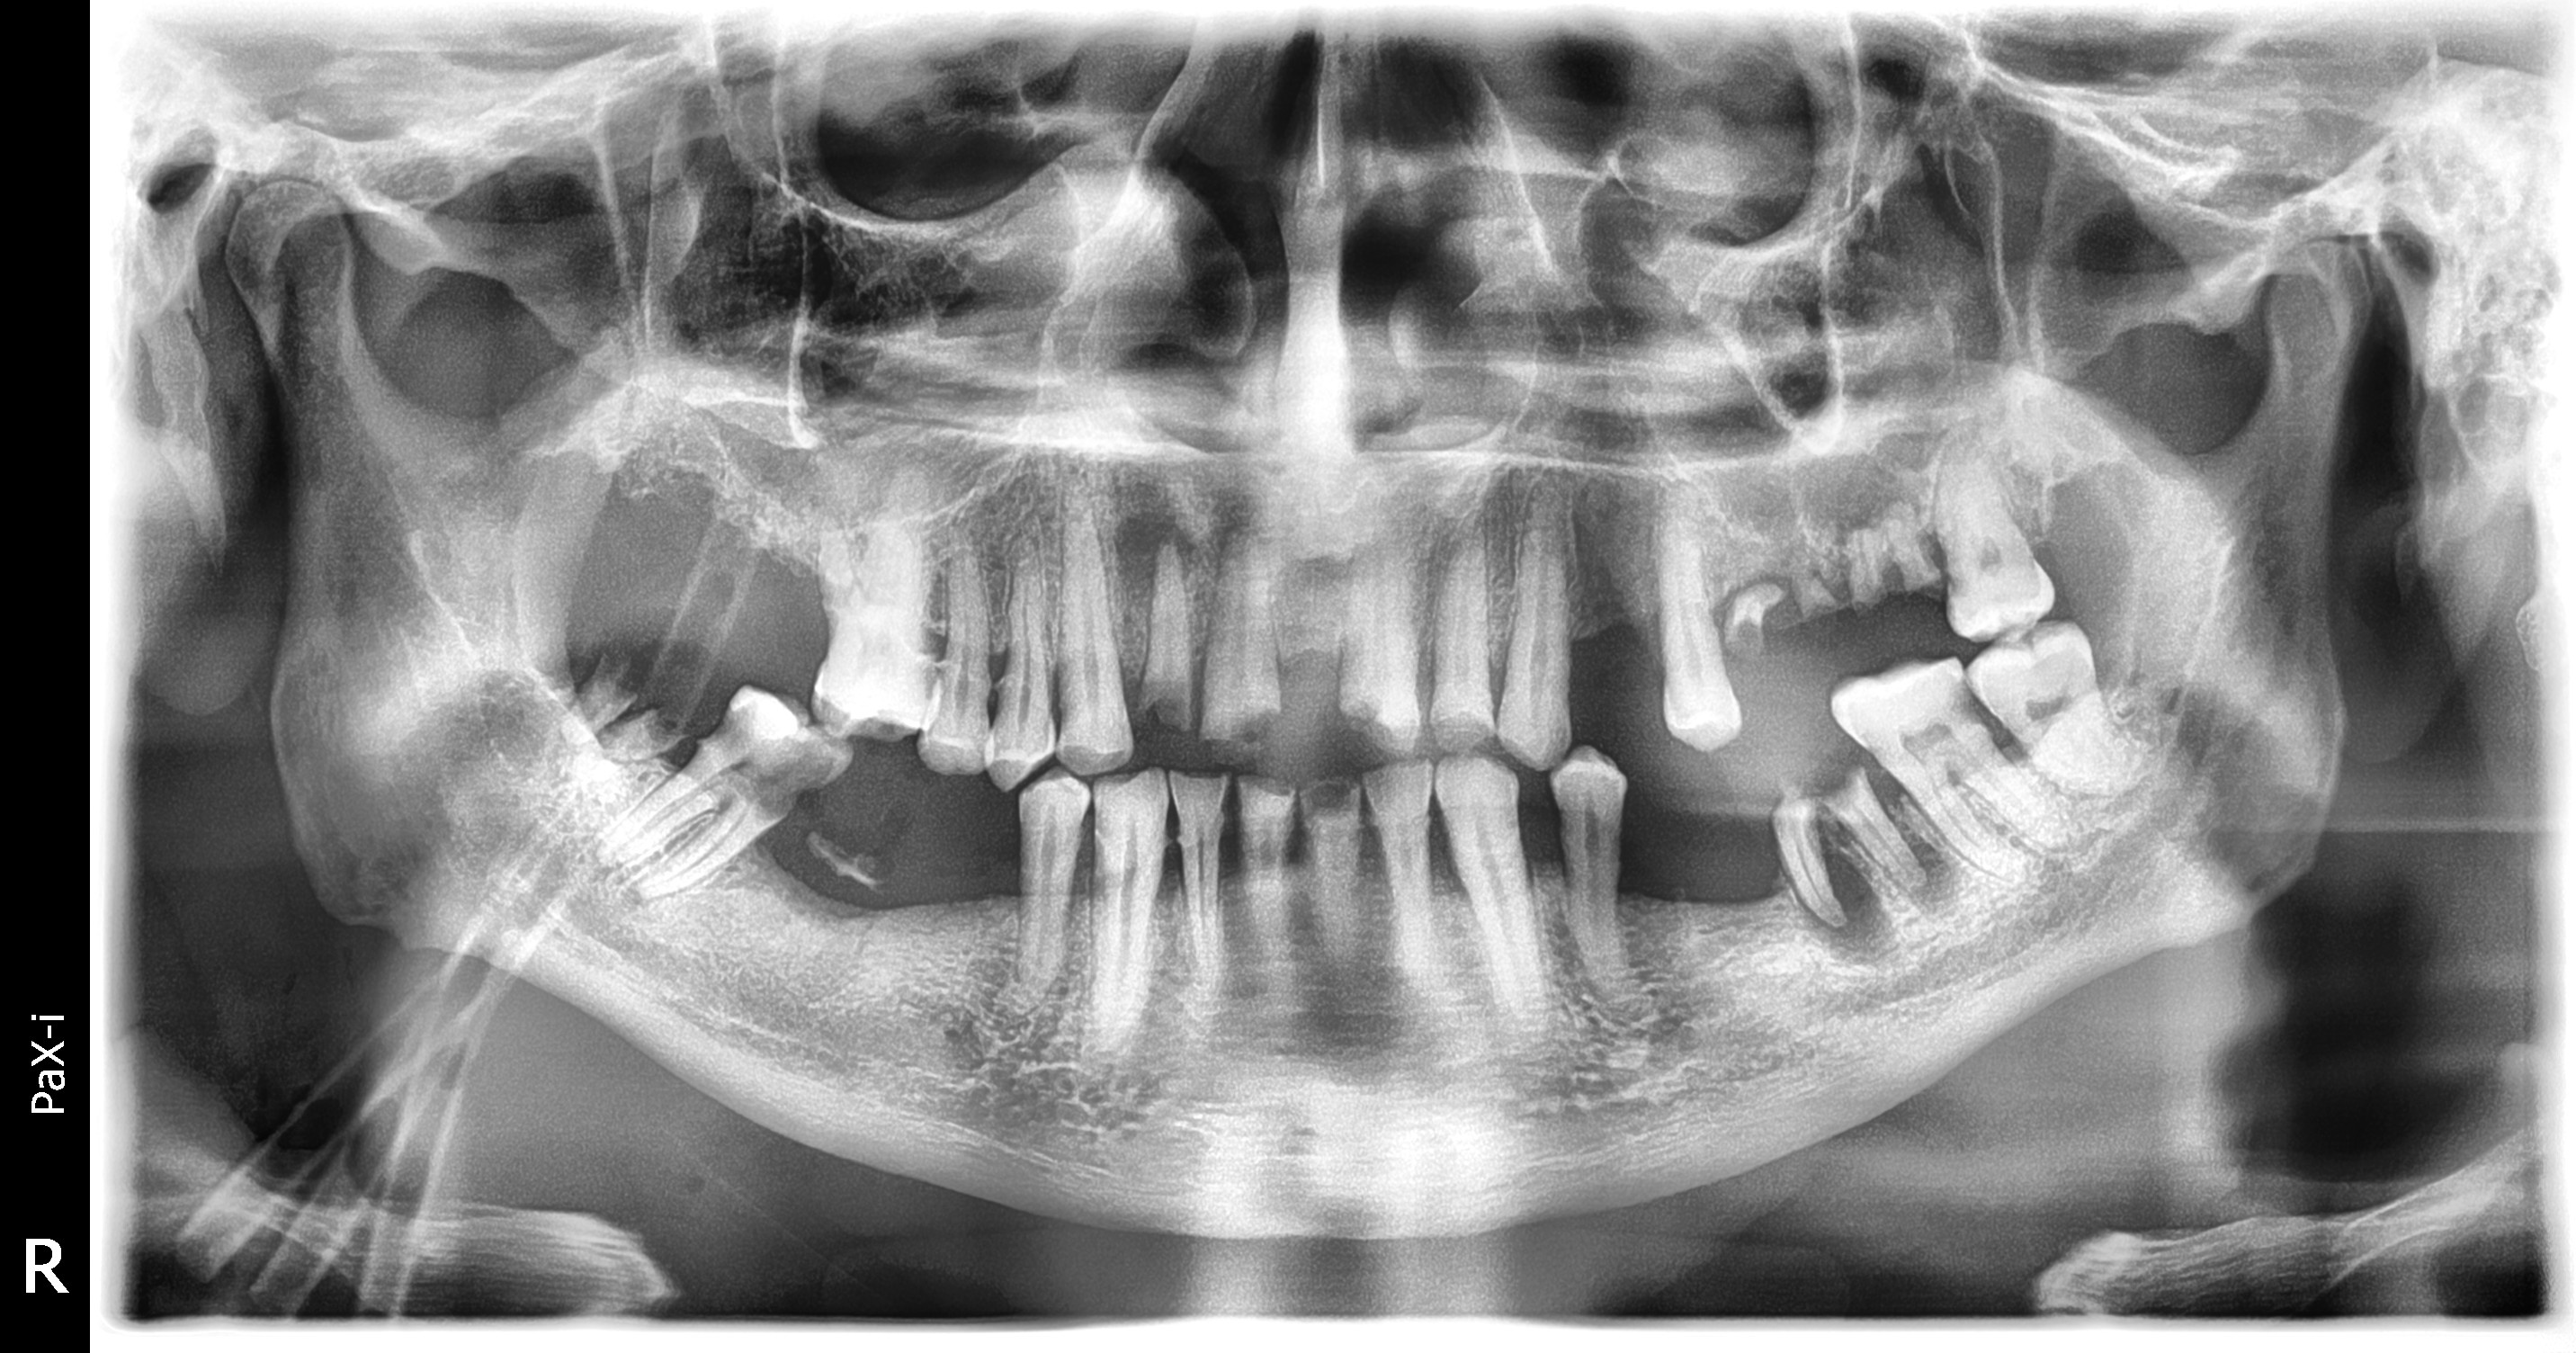API: (1796, 900, 1906, 982), (1119, 501, 1193, 581), (1886, 859, 1975, 924), (1215, 489, 1278, 564), (578, 832, 632, 883), (627, 872, 664, 924)
BON: (1871, 769, 1937, 815), (1215, 806, 1247, 881), (1429, 826, 1463, 896), (1523, 808, 1557, 866), (1281, 816, 1314, 874), (1985, 716, 2029, 755), (1159, 815, 1181, 891), (1073, 828, 1092, 893), (1421, 659, 1441, 709), (1363, 828, 1380, 876), (1118, 661, 1136, 699), (1489, 661, 1504, 690)
CAR: (1201, 688, 1285, 755), (762, 746, 828, 816), (1423, 695, 1491, 762), (702, 688, 763, 760), (1334, 688, 1394, 757), (1138, 670, 1184, 745), (1944, 666, 1980, 738), (811, 668, 857, 719), (1240, 763, 1293, 804), (1307, 772, 1351, 813), (1947, 561, 1975, 603), (2026, 634, 2046, 670)
FUR: (1809, 804, 1854, 840), (1944, 769, 1973, 791)
OBT: (731, 661, 799, 736)
ROT: (1830, 772, 1917, 895), (549, 632, 632, 745), (1765, 779, 1830, 918), (802, 808, 900, 891), (583, 702, 661, 787), (1705, 556, 1779, 642), (1896, 491, 1932, 595), (1847, 510, 1877, 608), (1803, 550, 1837, 620)
